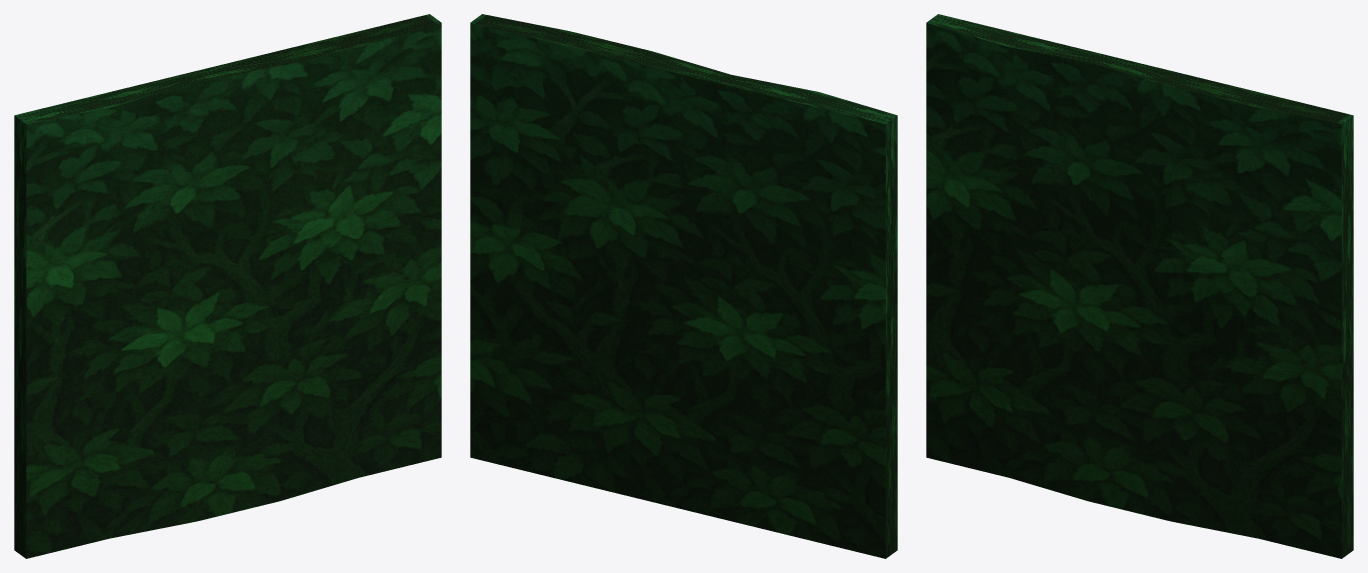
File: Forest Closed_UNI.fbx
3 views of the same model, side by side, from view 1: azimuth 30°, elevation 25°; view 2: azimuth 150°, elevation 25°; view 3: azimuth 330°, elevation 25° (orthographic).
Visible parts, largest first — view 1: Cube; view 2: Cube; view 3: Cube.
Boxes of the visible parts, box(x1,y1,x2,y2) form: Cube: box(14, 14, 441, 558); Cube: box(470, 14, 897, 558); Cube: box(926, 14, 1353, 558).
Bounding box in the file's own units: 1000 × 1000 × 67.88.
